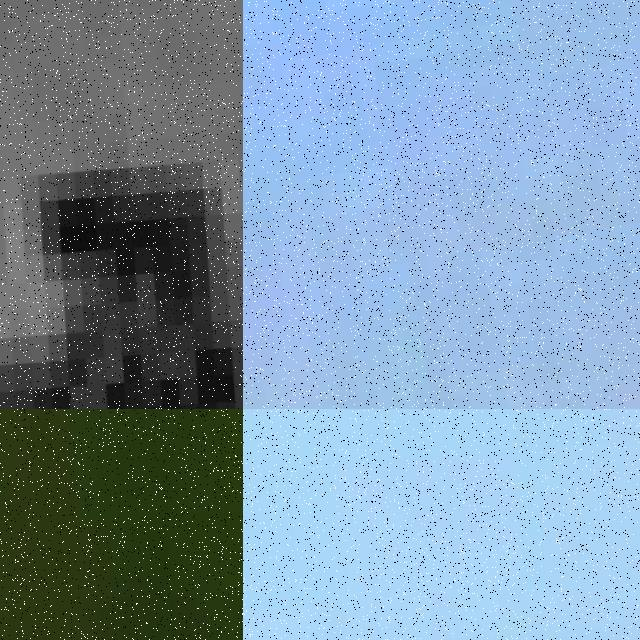drone: (0, 0, 243, 409), (243, 409, 640, 640), (0, 409, 243, 640)
